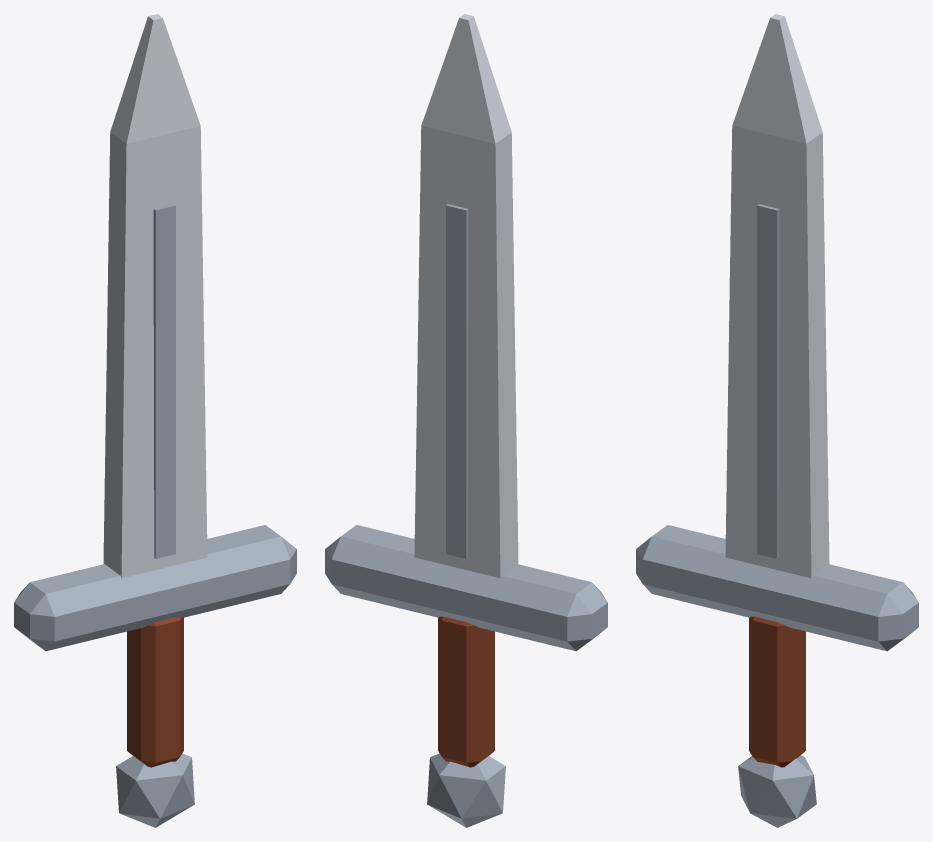
Rendered from Res_Sword_Iron.fbx.
The picture shows the model from 3 angles, left to right: view 1: azimuth 30°, elevation 25°; view 2: azimuth 150°, elevation 25°; view 3: azimuth 330°, elevation 25°; orthographic projection.
Parts seen in each view (by area): view 1: Res_Sword_Iron; view 2: Res_Sword_Iron; view 3: Res_Sword_Iron.
Part boxes in pixels (x1,y1,x2,y2): Res_Sword_Iron: (14, 14, 296, 827); Res_Sword_Iron: (325, 14, 607, 827); Res_Sword_Iron: (636, 14, 918, 827).
Bounding box in the file's own units: 0.34 × 0.987 × 0.075.
